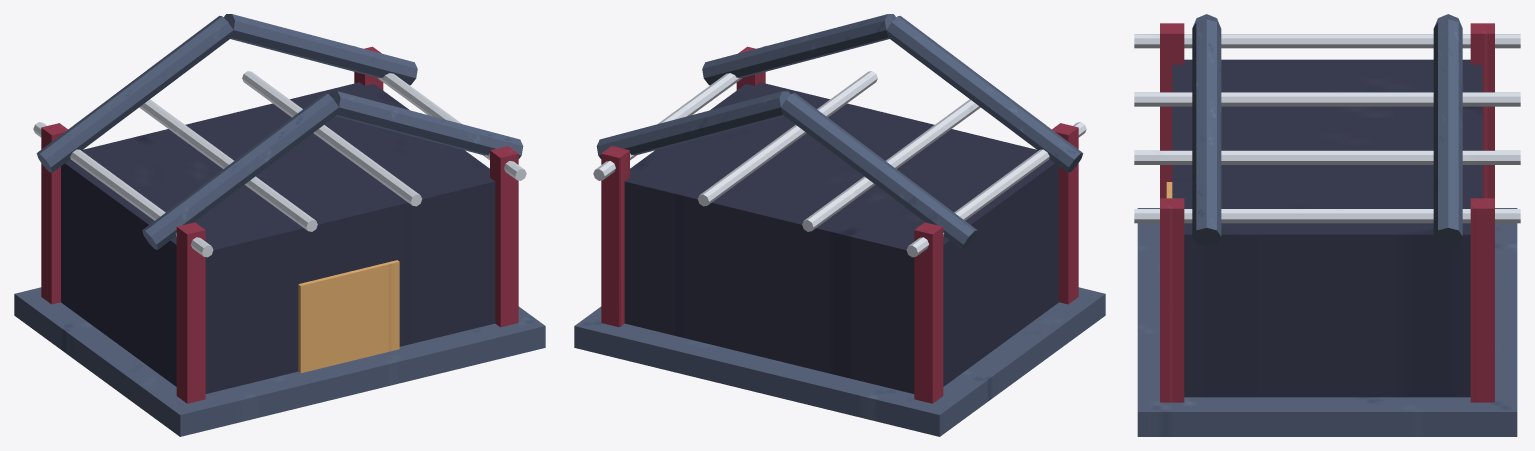
File: frost_shrine_hall_lod1.glb
3 renders of one model, left to right at view 1: azimuth 30°, elevation 25°; view 2: azimuth 150°, elevation 25°; view 3: azimuth 270°, elevation 25°, orthographic. The views are drawn at different scales.
Parts seen in each view (by area): view 1: wood_0, stone_1, gold_14, stone_6, stone_8, vermillion_4, stone_7, stone_9, vermillion_5, vermillion_2, snow_12, snow_11 (+2 smaller); view 2: wood_0, stone_1, stone_8, stone_6, vermillion_2, stone_9, stone_7, vermillion_3, vermillion_4, snow_12, snow_11, snow_10 (+1 smaller); view 3: wood_0, stone_1, stone_7, stone_9, vermillion_3, vermillion_5, snow_11, snow_12, snow_10, snow_13, vermillion_2, vermillion_4.
Part boxes in pixels (x1,y1,x2,y2): wood_0: [61, 82, 495, 393]; stone_1: [14, 287, 545, 436]; gold_14: [298, 260, 399, 373]; stone_6: [36, 15, 233, 172]; stone_8: [142, 93, 338, 249]; vermillion_4: [176, 222, 205, 403]; stone_7: [223, 14, 417, 85]; stone_9: [329, 91, 523, 158]; vermillion_5: [490, 146, 518, 327]; vermillion_2: [41, 123, 67, 304]; snow_12: [242, 71, 422, 206]; snow_11: [139, 99, 317, 231]; wood_0: [624, 82, 1058, 393]; stone_1: [574, 287, 1105, 436]; stone_8: [886, 15, 1083, 172]; stone_6: [781, 93, 977, 249]; vermillion_2: [914, 222, 943, 403]; stone_9: [702, 14, 896, 85]; stone_7: [596, 91, 790, 158]; vermillion_3: [601, 146, 629, 327]; vermillion_4: [1052, 123, 1078, 304]; snow_12: [697, 71, 877, 206]; snow_11: [802, 99, 980, 231]; snow_10: [906, 122, 1086, 257]; wood_0: [1172, 59, 1482, 397]; stone_1: [1137, 208, 1517, 436]; stone_7: [1433, 19, 1462, 245]; stone_9: [1192, 19, 1221, 245]; vermillion_3: [1470, 198, 1494, 402]; vermillion_5: [1160, 198, 1184, 402]; snow_11: [1134, 92, 1520, 106]; snow_12: [1134, 150, 1520, 164]; snow_10: [1134, 34, 1520, 48]; snow_13: [1134, 209, 1520, 223]; vermillion_2: [1470, 23, 1494, 198]; vermillion_4: [1160, 23, 1184, 198].
Size of the model in its own units: 14.37 by 10.18 by 11.2.
5 materials, 5 textured.
